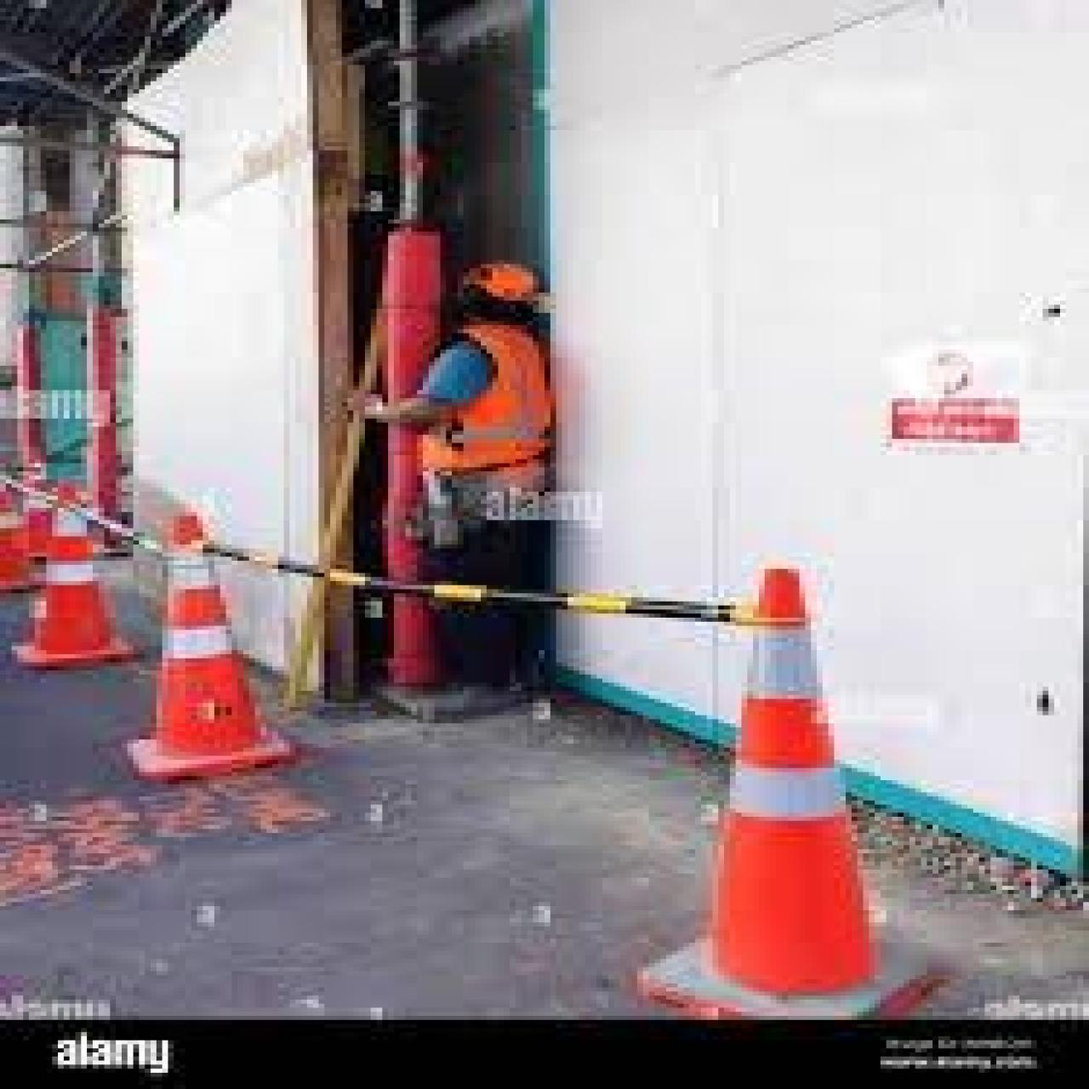NO_Safety_Vest: (420, 323, 560, 477)
Person: (332, 257, 566, 714)
